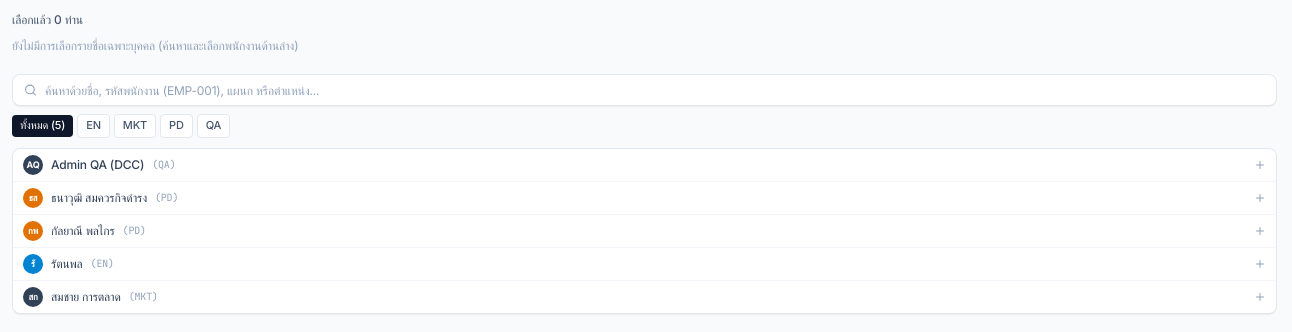
Test: AuthorizedUsersSelector Component › filters users instantly by search term (name, ID, or position)
Search by name
Step 1. Type "รัตนพล" into the field with placeholder "ค้นหาด้วยชื่อ, รหัสพนักงาน (EMP-001), แผนก หรือตำแหน่ง..." → (644, 90), box x1=12 y1=74 x2=1277 y2=106
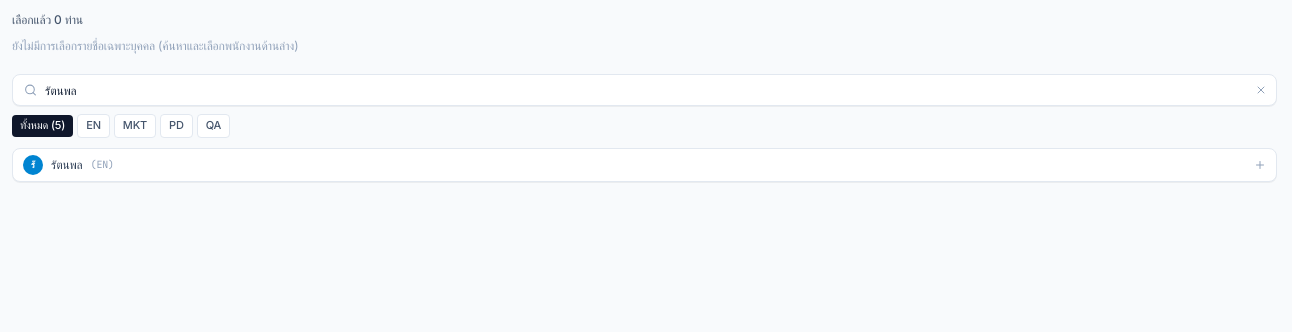
Expected: the text "รัตนพล" is shown, x1=51 y1=157 x2=83 y2=173
Expected: the button "สมชาย การตลาด" is gone
Search by User ID
Step 2. Replace the text in the field with placeholder "ค้นหาด้วยชื่อ, รหัสพนักงาน (EMP-001), แผนก หรือตำแหน่ง..." with "U010" → (644, 90), box x1=12 y1=74 x2=1277 y2=106
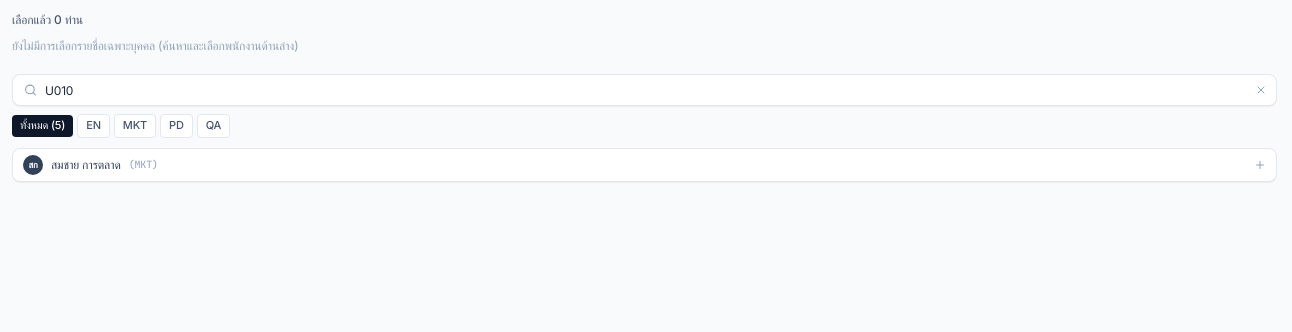
Expected: the text "สมชาย การตลาด" is shown, x1=51 y1=157 x2=121 y2=173
Expected: the button "รัตนพล" is gone
Search with no results
Step 3. Replace the text in the field with placeholder "ค้นหาด้วยชื่อ, รหัสพนักงาน (EMP-001), แผนก หรือตำแหน่ง..." with "XYZ999" → (644, 90), box x1=12 y1=74 x2=1277 y2=106
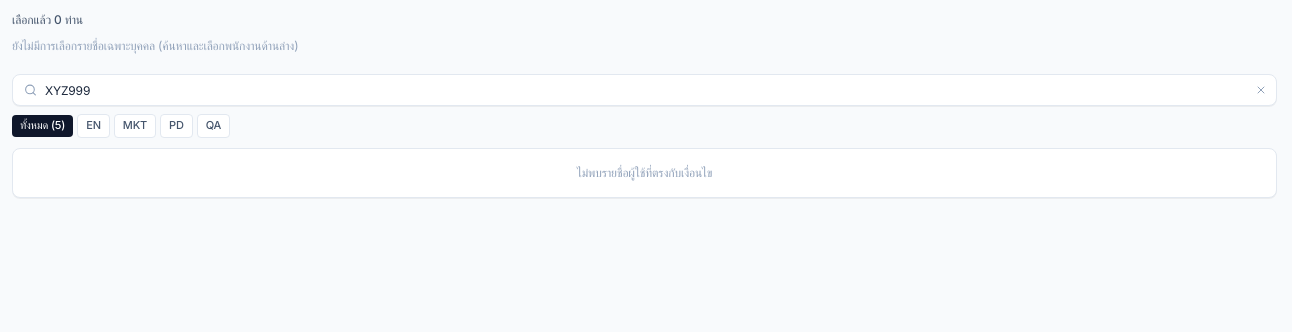
Expected: the text "ไม่พบรายชื่อผู้ใช้ที่ตรงกับเงื่อนไข" is shown, x1=577 y1=165 x2=712 y2=180
